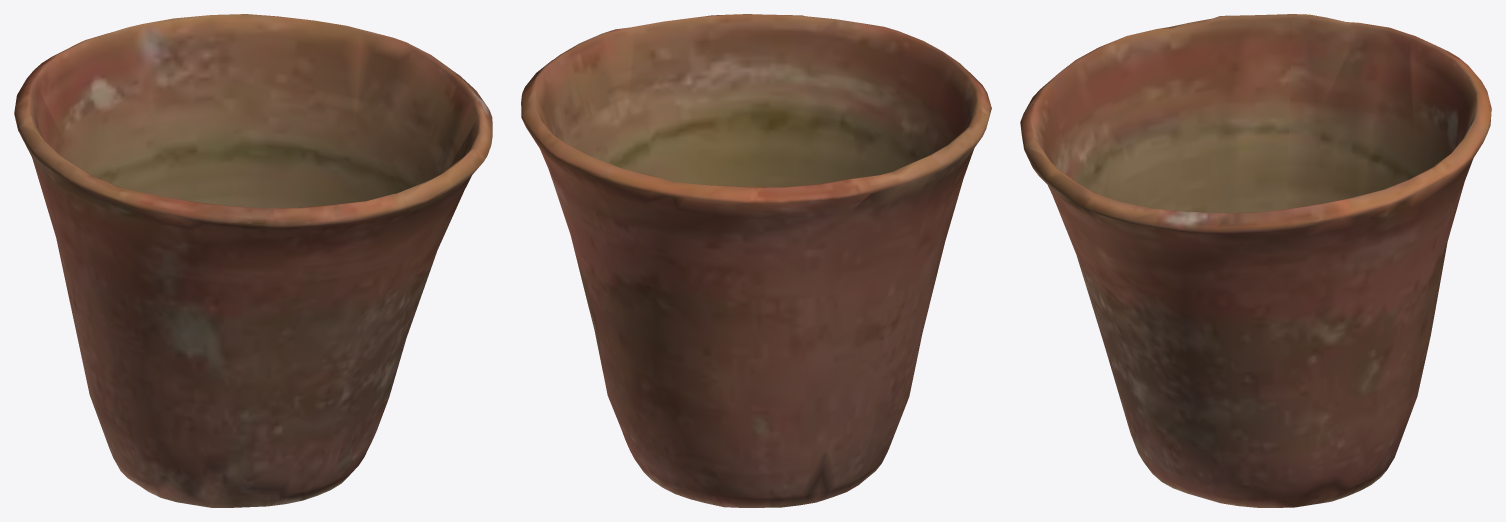
The model's file is ph_planter_pot_clay.glb.
The picture shows the model from 3 angles, left to right: view 1: azimuth 30°, elevation 25°; view 2: azimuth 150°, elevation 25°; view 3: azimuth 270°, elevation 25°; orthographic projection.
Parts seen in each view (by area): view 1: planter_pot_clay; view 2: planter_pot_clay; view 3: planter_pot_clay.
Part boxes in pixels (x1,y1,x2,y2): planter_pot_clay: (14,14,492,507); planter_pot_clay: (521,14,991,507); planter_pot_clay: (1020,14,1491,507).
Bounding box in the file's own units: 0.2656 × 0.2218 × 0.2635.
1 material, 1 textured.
